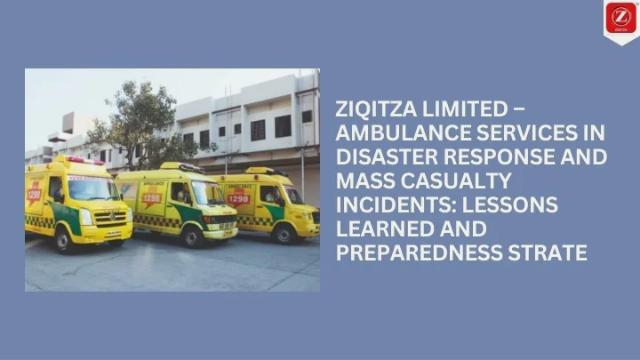ambulance: (118, 153, 242, 248), (30, 148, 136, 259), (209, 166, 323, 257)
